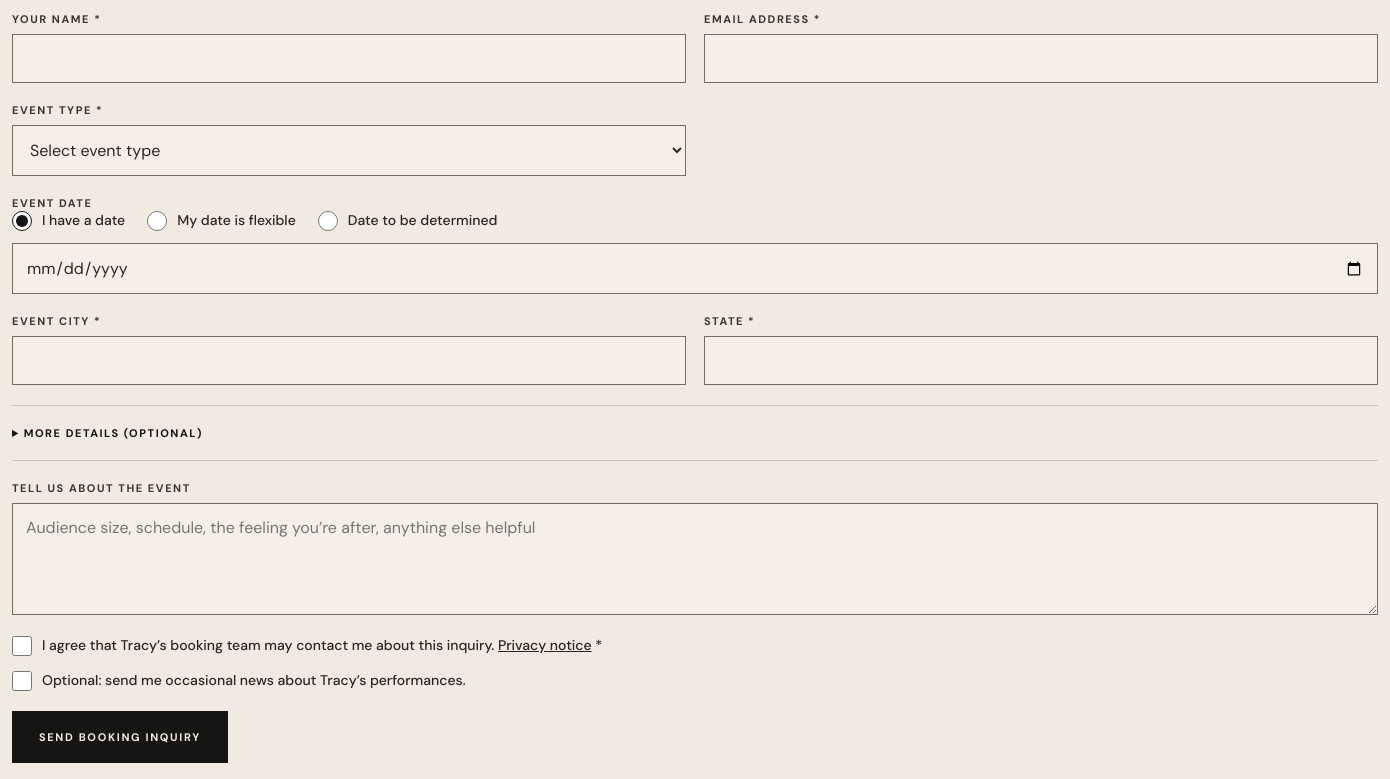
Scenario: BookingInquiryForm › shows server validation messages next to the field
The width and height of the screenshot is (1390, 779).
Type "Sample Booker" into the field labelled "Your name *". click: (349, 58)
box: [12,34,686,83]
Type "booker@example.com" into the field labelled "Email address *". click: (1041, 58)
box: [704,34,1378,83]
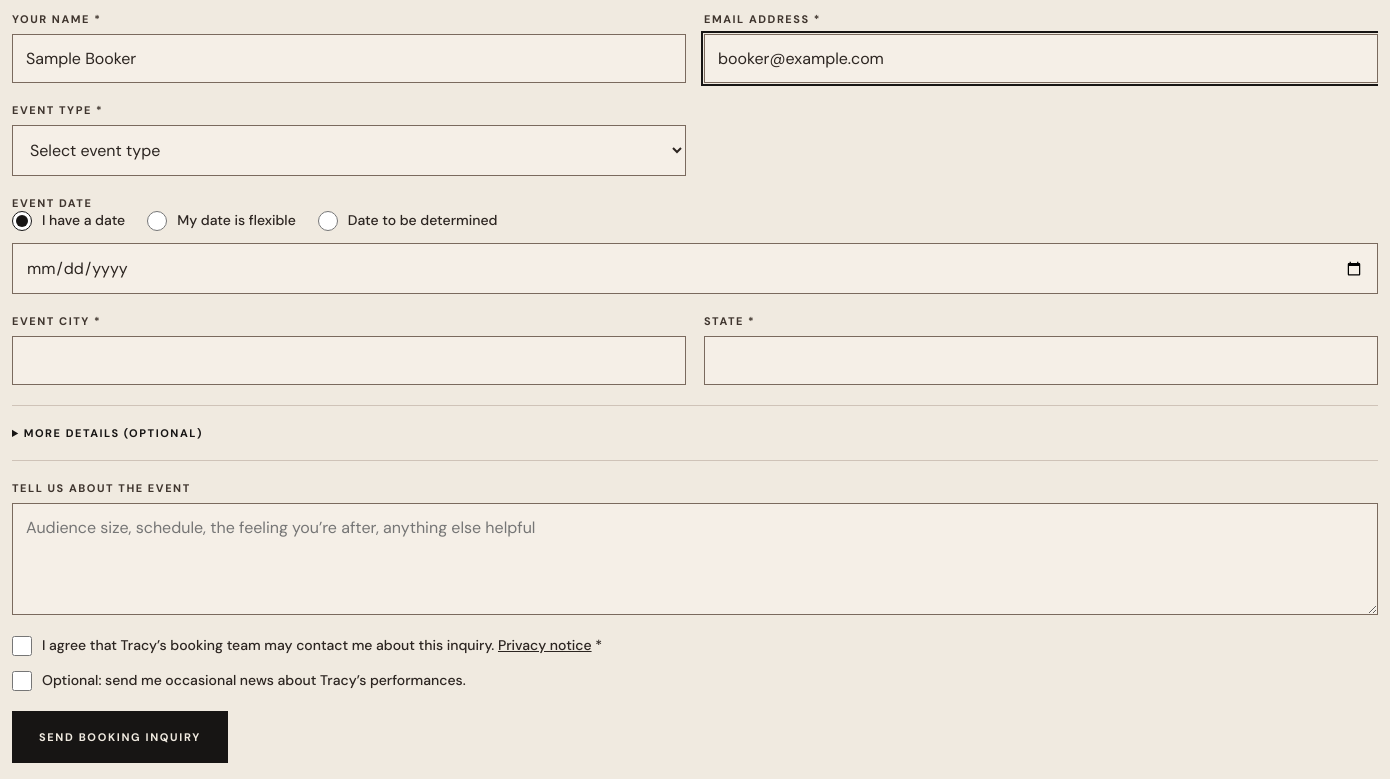
Select "Corporate event" in the dropdown labelled "Event type *". click: (349, 150)
box: [12,125,686,176]
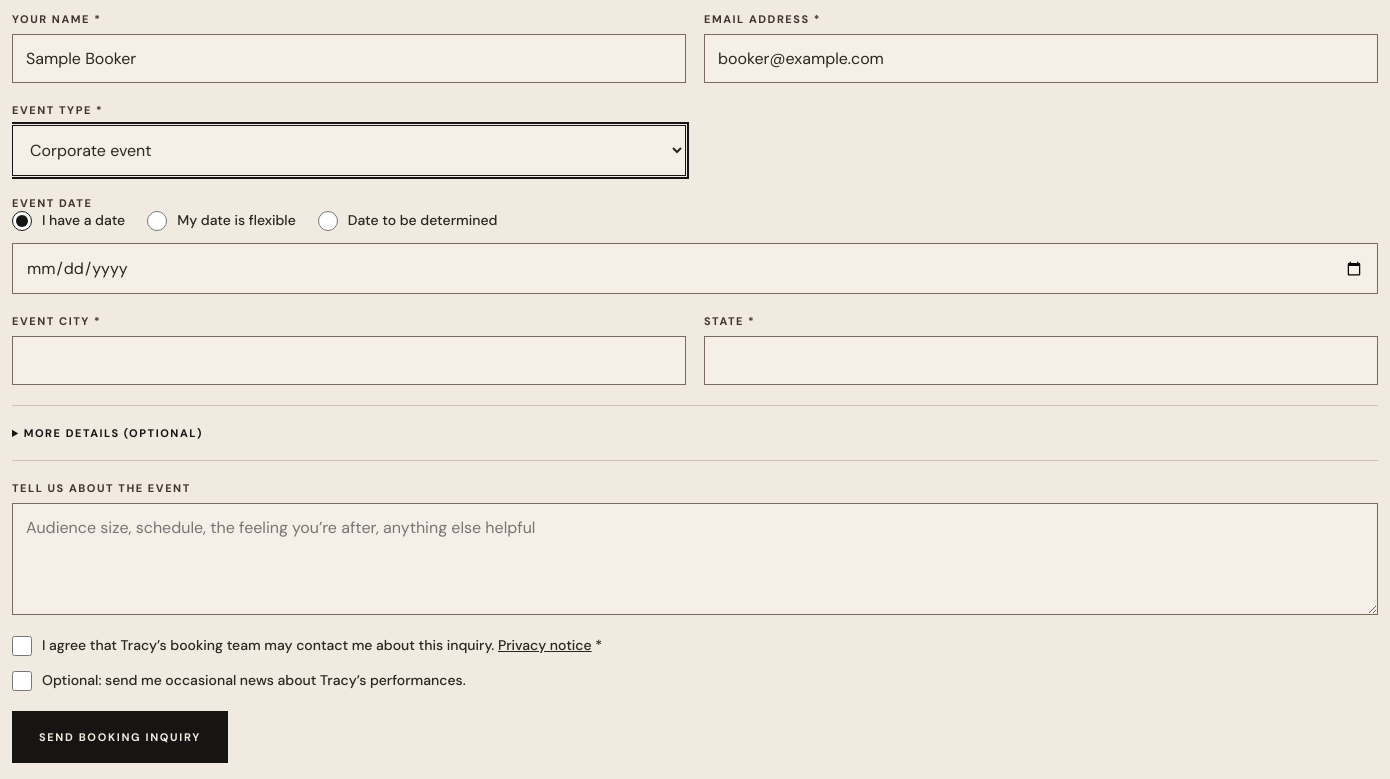
Click the radio button labelled "Date to be determined". click: (328, 221)
box: [318,211,338,231]
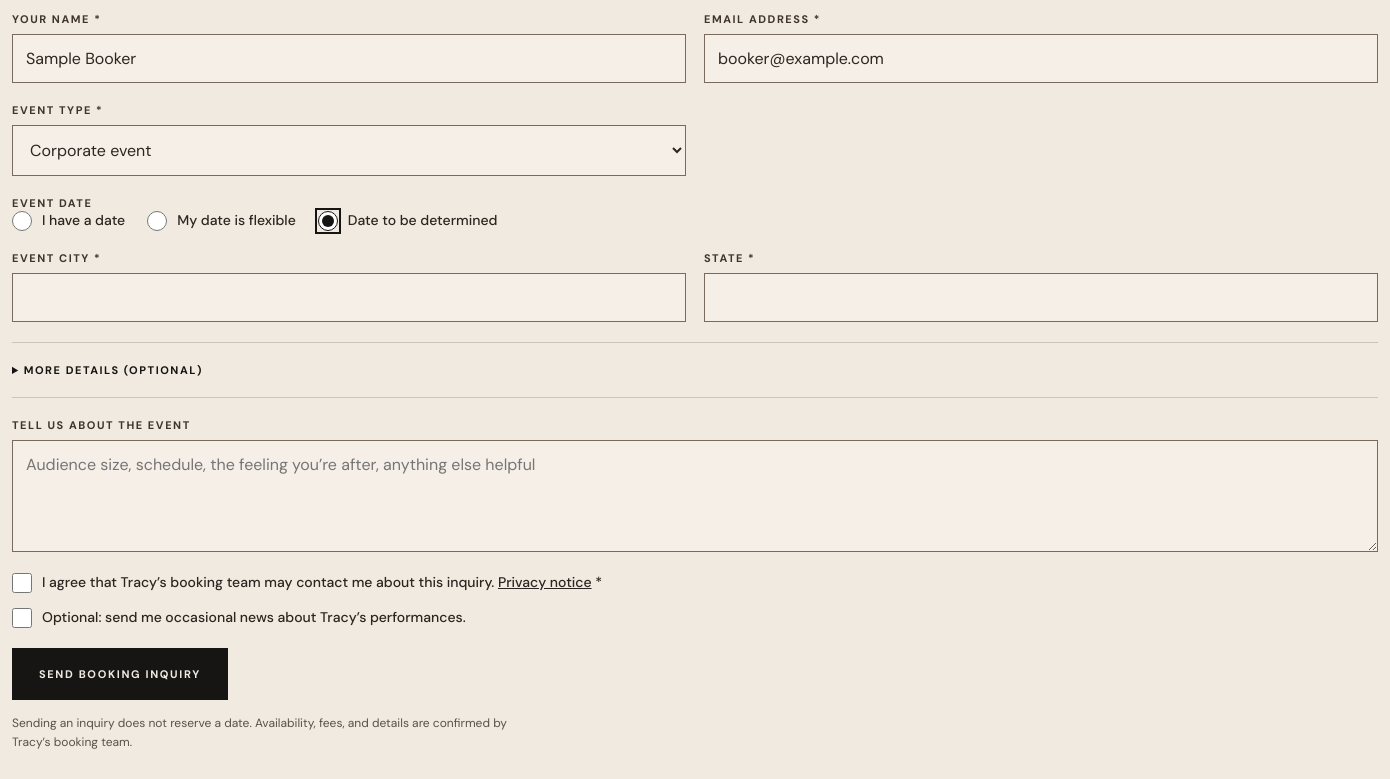
Type "St. Louis" into the field labelled "Event city *". click: (349, 298)
box: [12,273,686,322]
Type "MO" into the field labelled "State *". click: (1041, 298)
box: [704,273,1378,322]
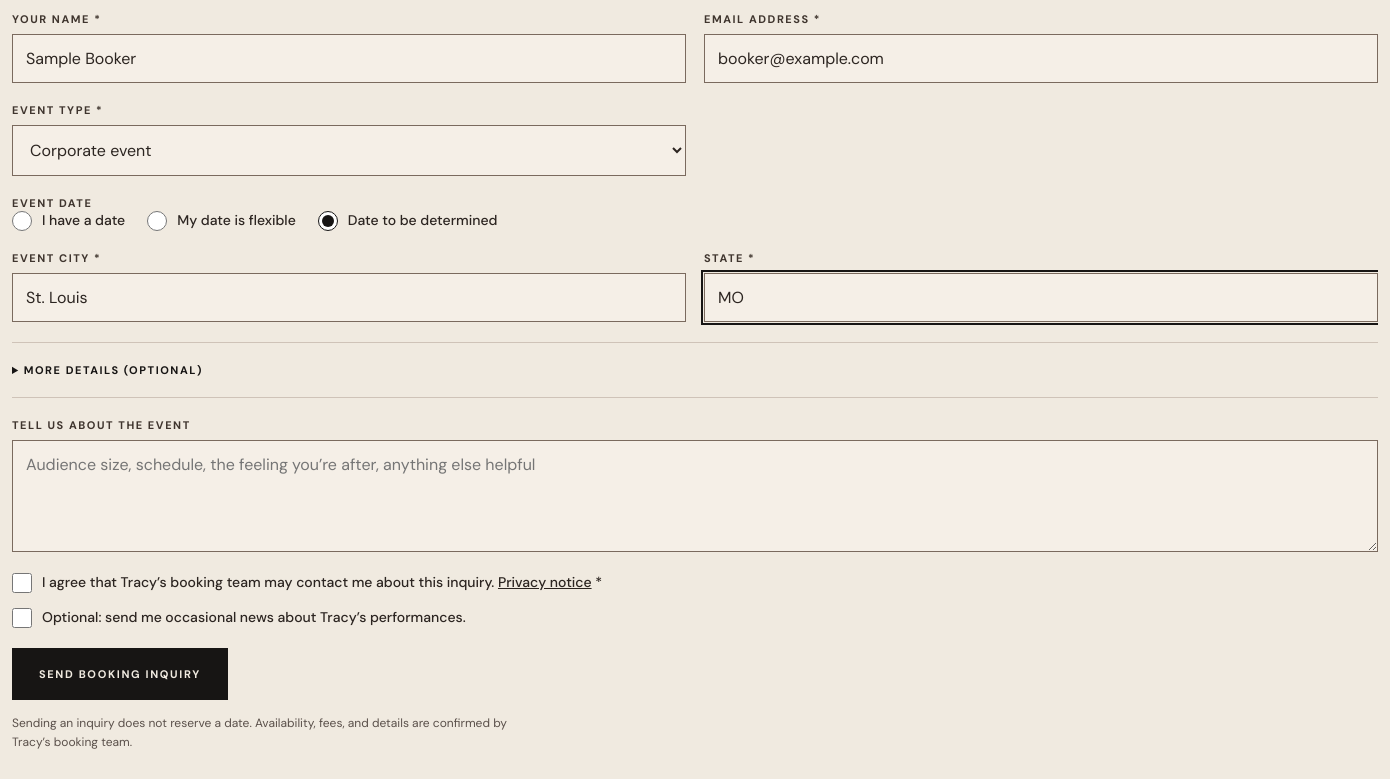
Click the checkbox labelled "may contact me about this inquiry". click: (22, 583)
box: [12,573,32,593]
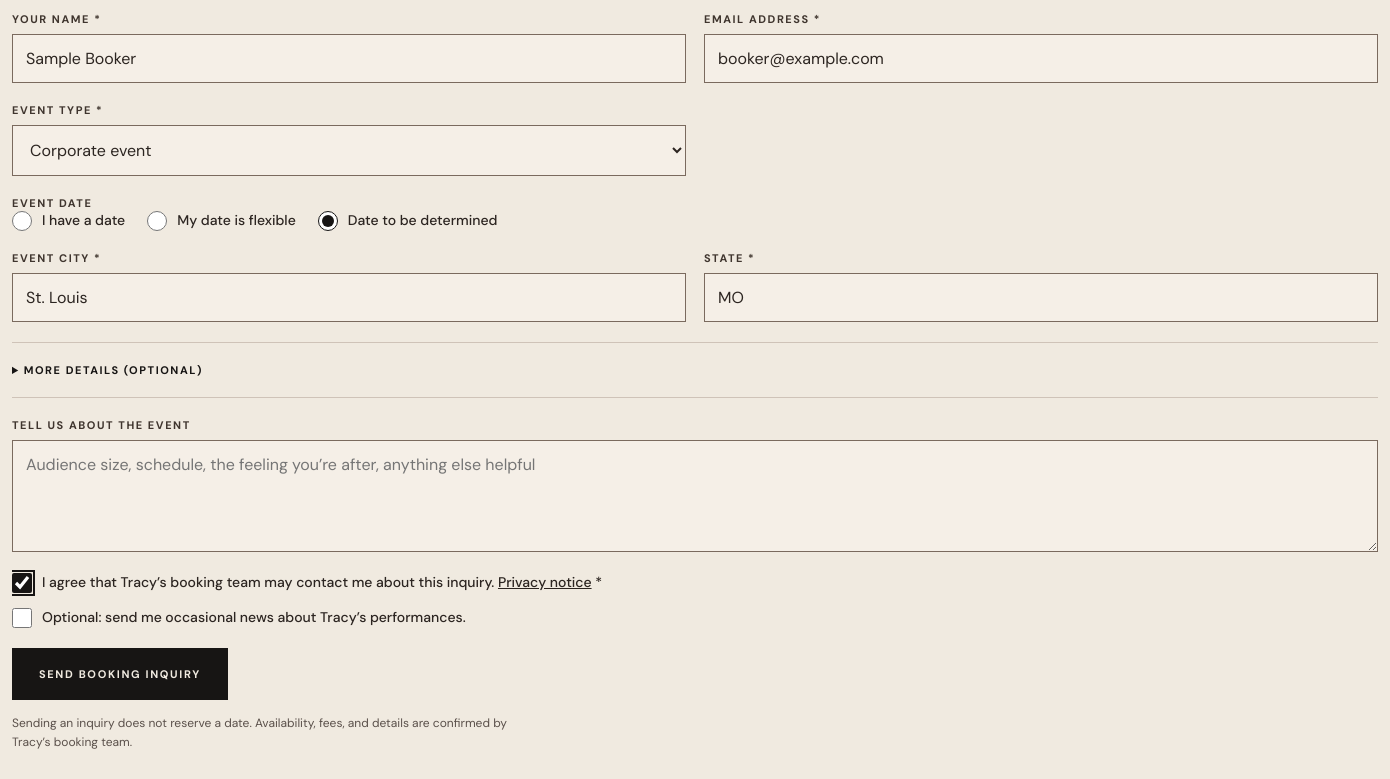
Click the button "Send booking inquiry". click: (120, 674)
box: [12,648,228,700]
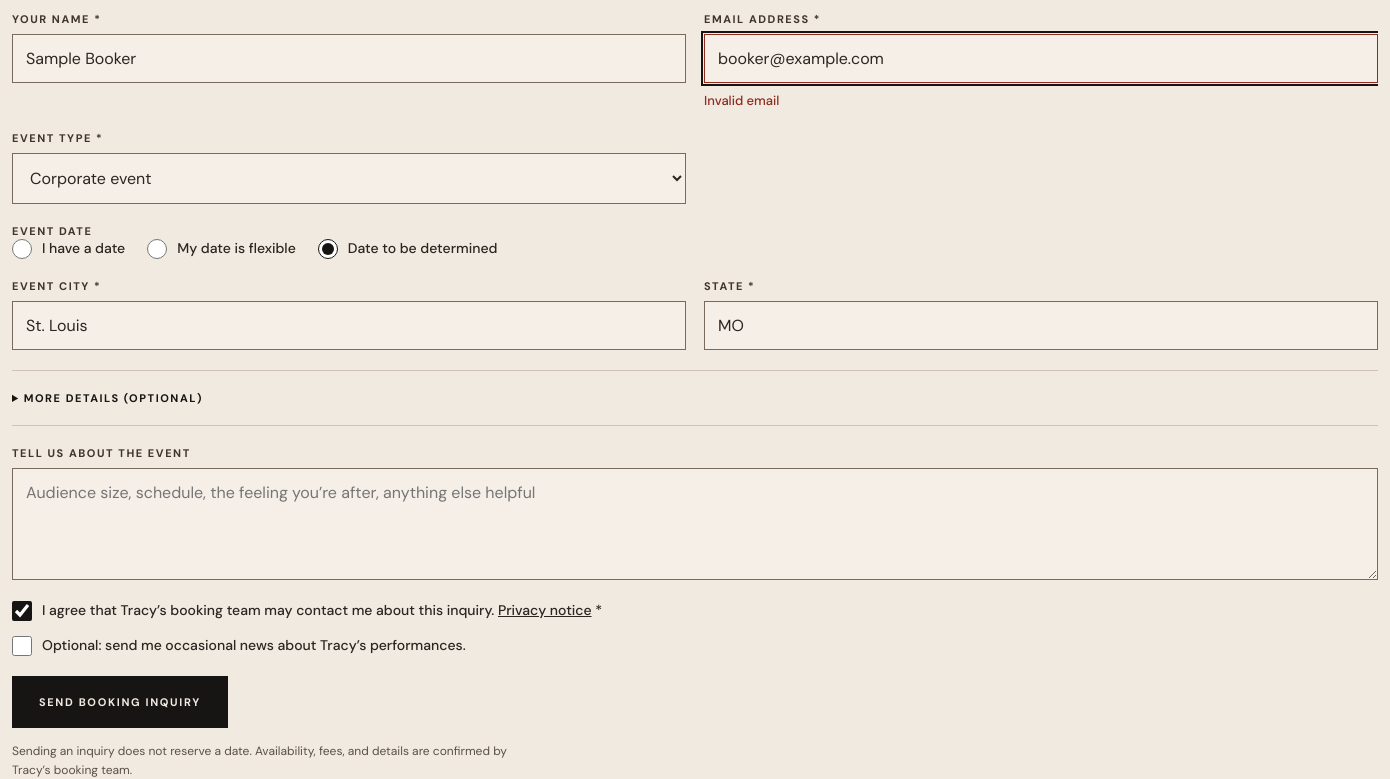
Expected: the text "Invalid email" is shown, [704,92,780,109]
